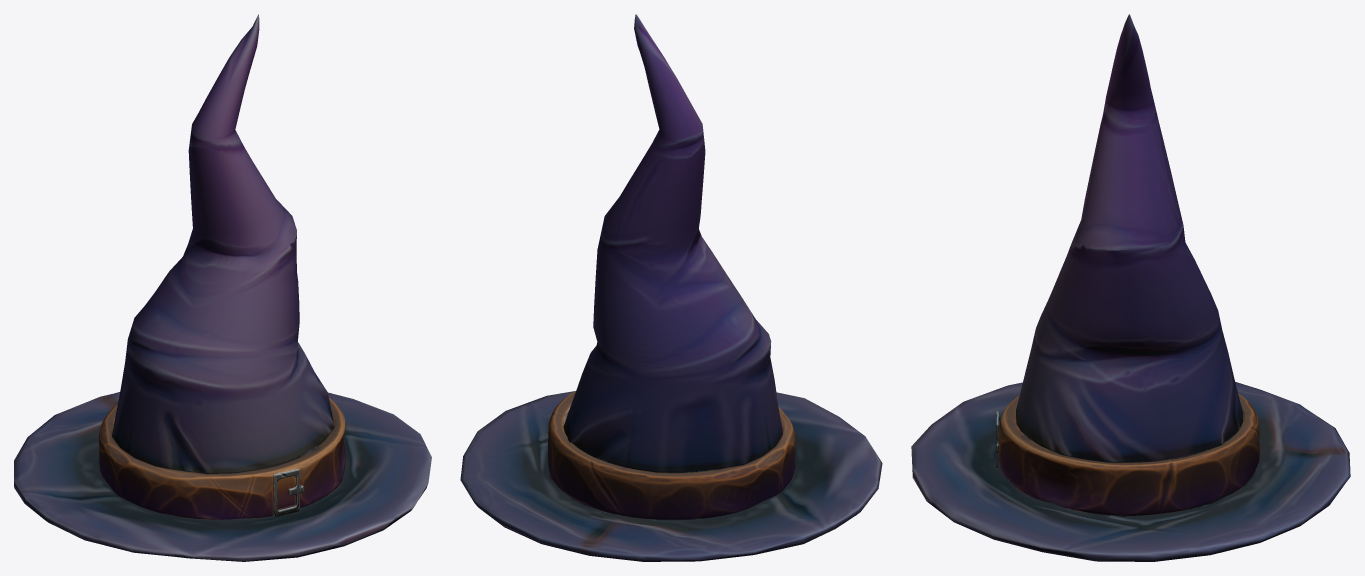
File: witch-hat.glb
The picture shows the model from 3 angles, left to right: view 1: azimuth 30°, elevation 25°; view 2: azimuth 150°, elevation 25°; view 3: azimuth 270°, elevation 25°; orthographic projection. The views are drawn at different scales.
Parts seen in each view (by area): view 1: wizardHat_0; view 2: wizardHat_0; view 3: wizardHat_0.
Part boxes in pixels (x1,y1,x2,y2): wizardHat_0: (14,14,431,561); wizardHat_0: (460,14,882,561); wizardHat_0: (911,14,1350,561).
Bounding box in the file's own units: 0.5284 × 0.6269 × 0.5238.
1 material, 1 textured.
